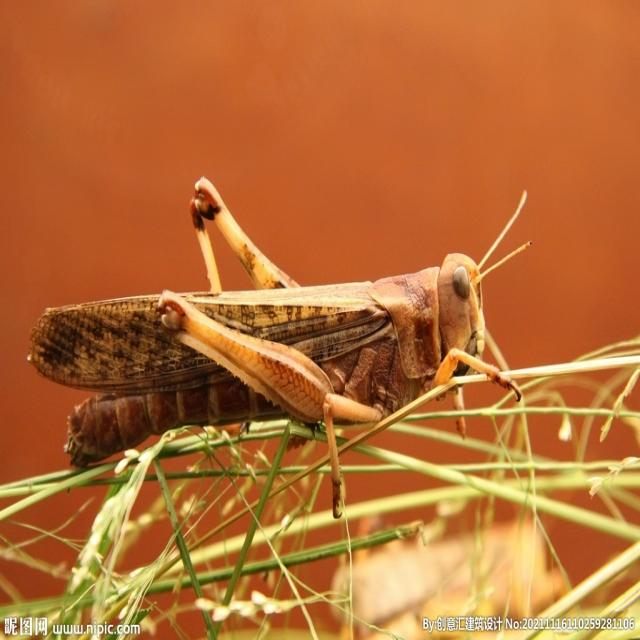ZhaMeng: (18, 161, 554, 461)
